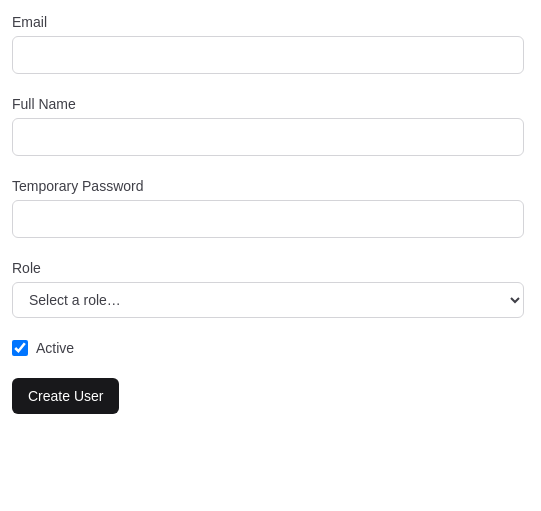
Scenario: UserForm › shows validation errors when required create fields are missing
Click the button "Create User". click: [66, 396]
box: top-left (12, 378), bottom-right (120, 414)
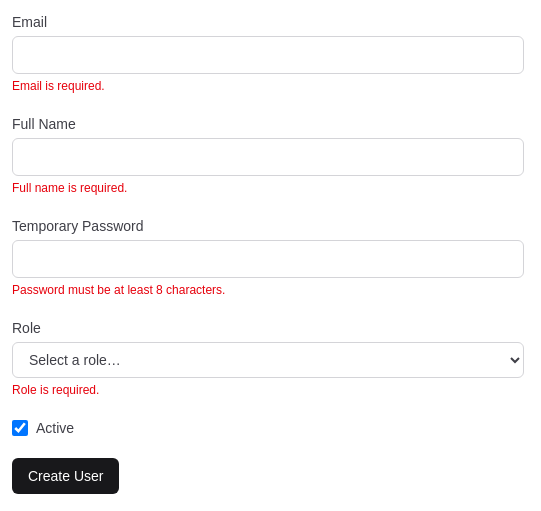
expect the text "Email is required." is shown: met, box top-left (12, 79), bottom-right (105, 93)
expect the text "Full name is required." is shown: met, box top-left (12, 181), bottom-right (127, 195)
expect the text "Password must be at least 8 characters." is shown: met, box top-left (12, 283), bottom-right (225, 297)
